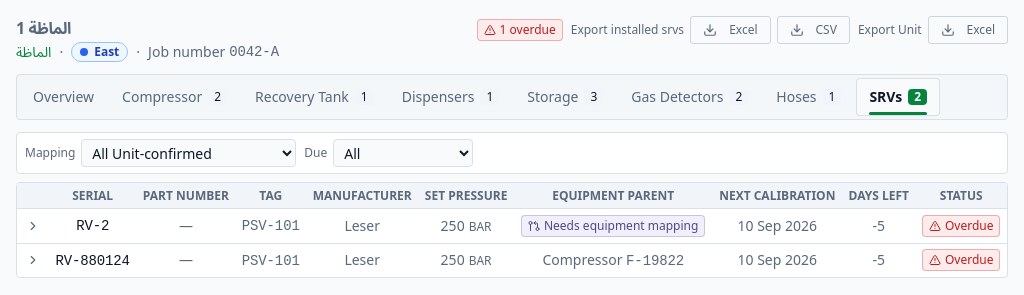
Scenario: Unit SRV visibility rules › filters by mapping status within the Unit-confirmed set
Expected: the text "RV-880124" is shown, [56,253,130,269]
Select "Needs equipment mapping" in the dropdown labelled "Mapping": (189, 153) [81,139,296,167]
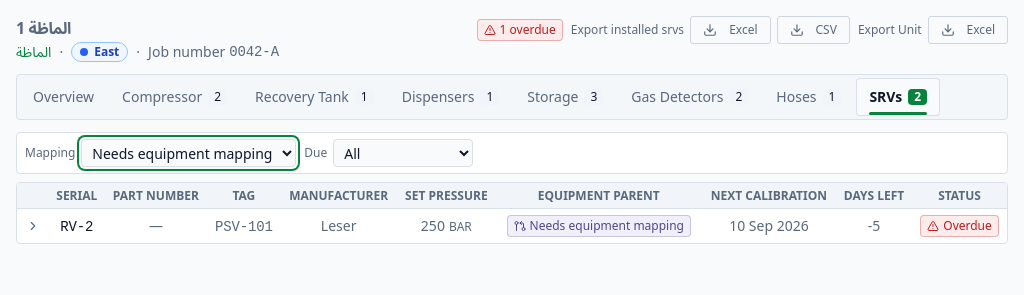
Expected: the text "RV-2" is shown, [60,218,93,234]
Now the text "RV-880124" is gone
